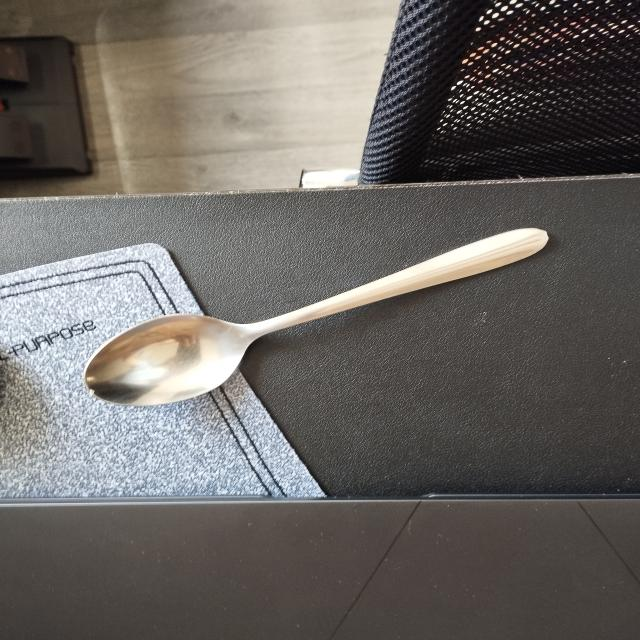Spoon: (57, 208, 580, 412)
